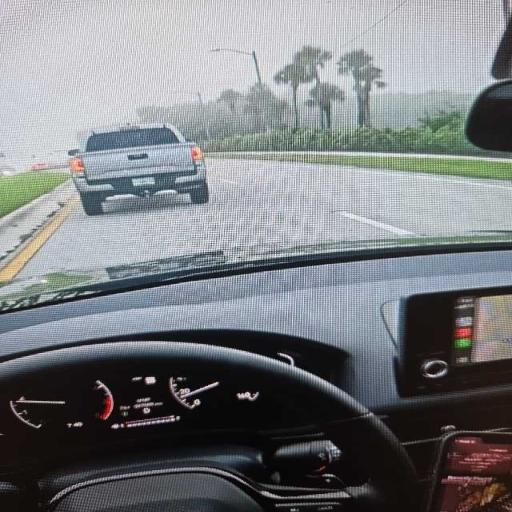car: (0, 0, 511, 511), (30, 163, 51, 171), (0, 166, 15, 176)
lane: (20, 159, 511, 276)
truck: (68, 125, 208, 215)
